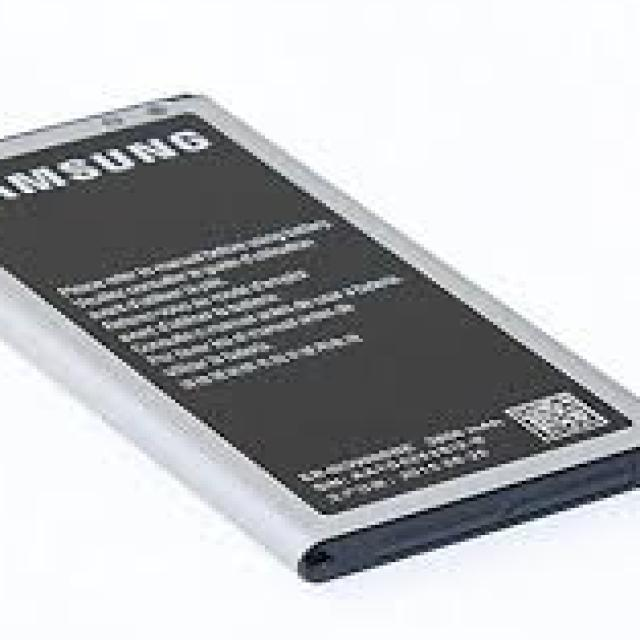organic: (3, 87, 640, 578)
